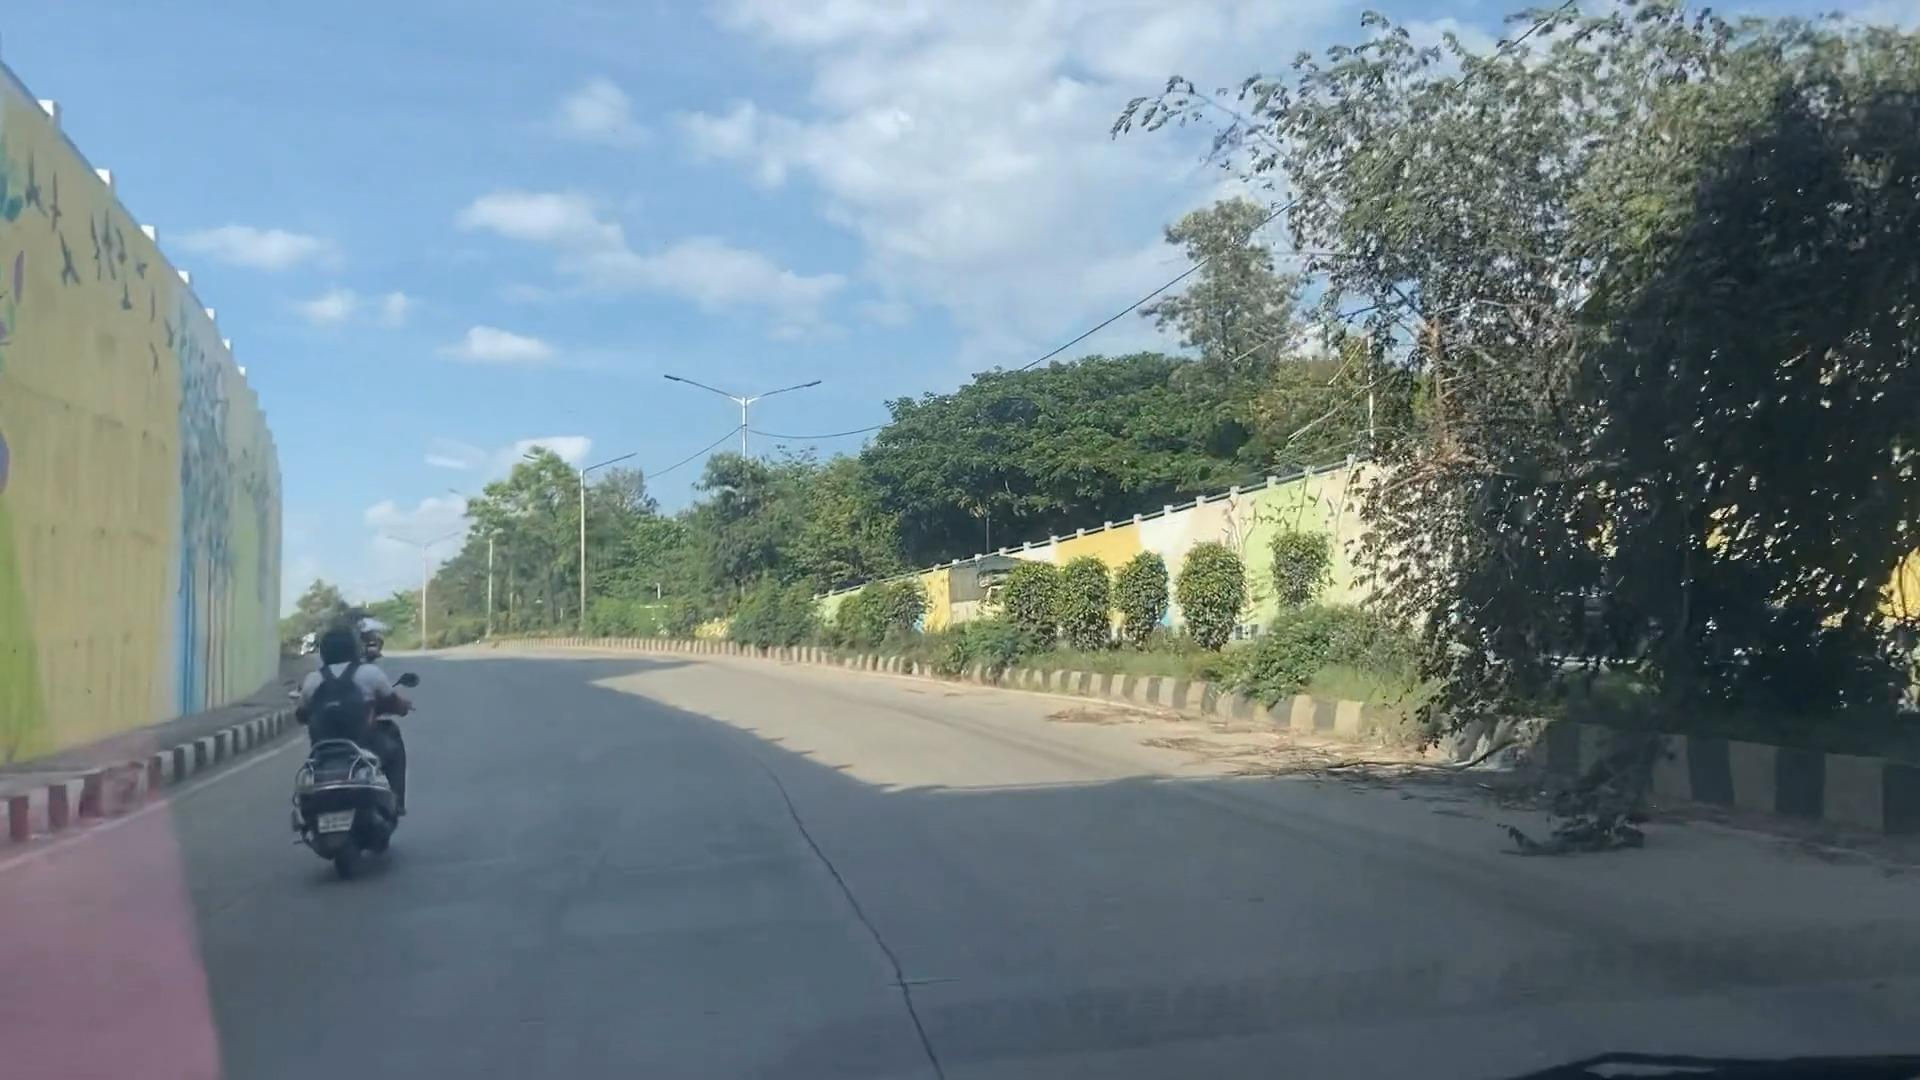LMV: (297, 615, 415, 861)
RoadDamages: (766, 752, 948, 1080)
